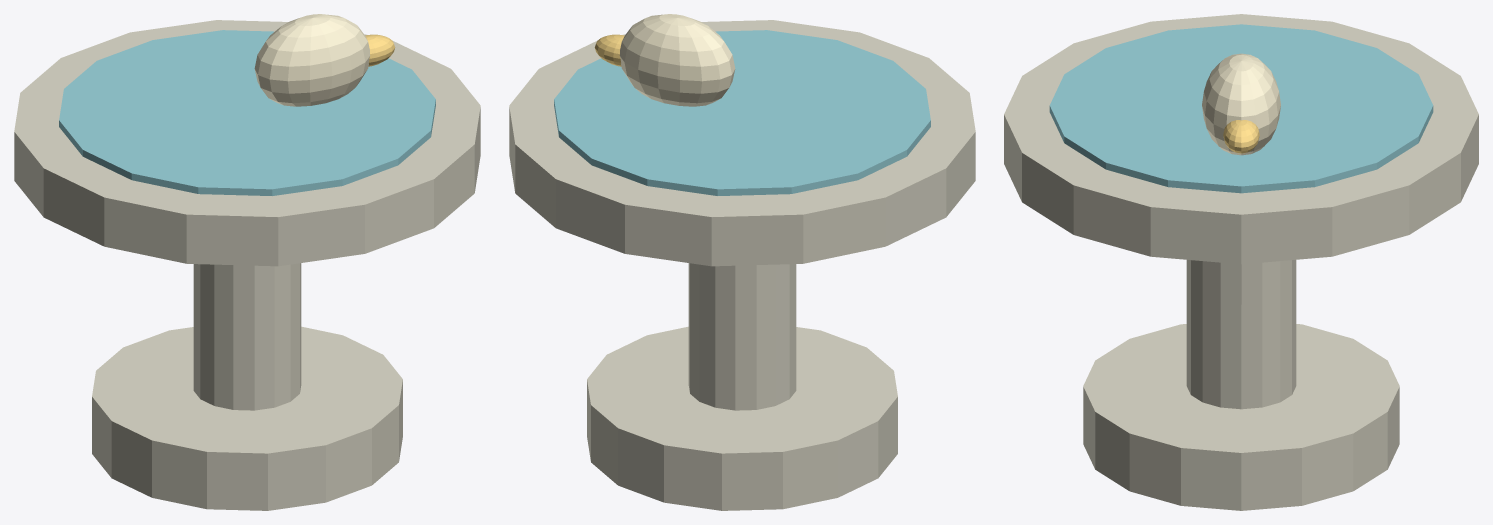
The model's file is Birdbath.fbx.
3 renders of one model, left to right at view 1: azimuth 30°, elevation 25°; view 2: azimuth 150°, elevation 25°; view 3: azimuth 270°, elevation 25°, orthographic.
Parts seen in each view (by area): view 1: Carved bowl, Water basin, Pedestal foot, Pedestal, Little bird, Bird beak; view 2: Carved bowl, Water basin, Pedestal foot, Pedestal, Little bird, Bird beak; view 3: Carved bowl, Water basin, Pedestal foot, Pedestal, Little bird, Bird beak.
Part boxes in pixels (left/top/right/bottom): Carved bowl: left=14, top=20, right=480, bottom=266; Water basin: left=59, top=30, right=435, bottom=195; Pedestal foot: left=92, top=326, right=402, bottom=510; Pedestal: left=193, top=263, right=301, bottom=410; Little bird: left=254, top=14, right=370, bottom=106; Bird beak: left=365, top=34, right=395, bottom=66; Carved bowl: left=509, top=20, right=975, bottom=266; Water basin: left=554, top=30, right=930, bottom=195; Pedestal foot: left=587, top=326, right=897, bottom=510; Pedestal: left=688, top=263, right=796, bottom=410; Little bird: left=619, top=14, right=735, bottom=106; Bird beak: left=594, top=34, right=624, bottom=66; Carved bowl: left=1004, top=14, right=1478, bottom=264; Water basin: left=1049, top=24, right=1433, bottom=193; Pedestal foot: left=1083, top=324, right=1399, bottom=510; Pedestal: left=1186, top=260, right=1296, bottom=409; Little bird: left=1202, top=53, right=1280, bottom=155; Bird beak: left=1223, top=120, right=1259, bottom=153.
Bounding box in the file's own units: 156 × 151 × 156.
